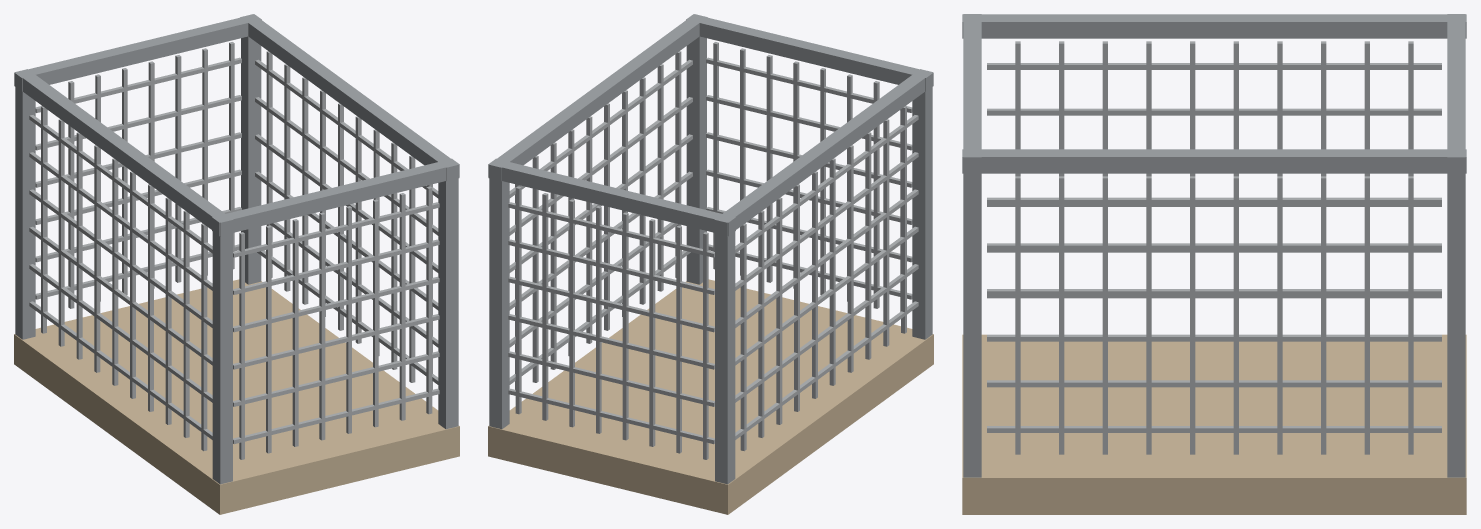
The model's file is unit_epal_gitterbox_1240x835x970_v14.glb.
The picture shows the model from 3 angles, left to right: view 1: azimuth 30°, elevation 25°; view 2: azimuth 150°, elevation 25°; view 3: azimuth 270°, elevation 25°; orthographic projection. The views are drawn at different scales.
Visible parts, largest first — view 1: GIBO_BASE, TOP_Z1, TOP_Z2, POST_-0.39249999999999996_0.595, POST_0.39249999999999996_0.595, TOP_X2, POST_-0.39249999999999996_-0.595, TOP_X1, POST_0.39249999999999996_-0.595, GRID_Z_V_0.595_-0.047, GRID_Z_V_0.595_-0.140, GRID_Z_V_0.595_0.233 (+54 smaller); view 2: GIBO_BASE, TOP_Z1, TOP_Z2, POST_-0.39249999999999996_-0.595, POST_0.39249999999999996_-0.595, TOP_X1, POST_-0.39249999999999996_0.595, TOP_X2, POST_0.39249999999999996_0.595, GRID_Z_V_-0.595_-0.047, GRID_Z_V_-0.595_0.233, GRID_Z_V_-0.595_0.326 (+54 smaller); view 3: GIBO_BASE, TOP_Z2, TOP_Z1, POST_0.39249999999999996_-0.595, POST_0.39249999999999996_0.595, GRID_X_H_0.39249999999999996_0.344, GRID_X_H_0.39249999999999996_0.716, GRID_X_H_-0.39249999999999996_0.716, GRID_X_H_0.39249999999999996_0.840, GRID_X_H_0.39249999999999996_0.468, GRID_X_H_-0.39249999999999996_0.840, TOP_X2 (+26 smaller).
Part boxes in pixels (<box>): GIBO_BASE: <box>14,279,459,514</box>; TOP_Z1: <box>15,69,233,236</box>; TOP_Z2: <box>240,14,459,181</box>; POST_-0.39249999999999996_0.595: <box>212,231,232,484</box>; POST_0.39249999999999996_0.595: <box>438,178,458,429</box>; TOP_X2: <box>212,158,459,236</box>; POST_-0.39249999999999996_-0.595: <box>15,87,35,339</box>; TOP_X1: <box>14,14,261,91</box>; POST_0.39249999999999996_-0.595: <box>241,36,261,284</box>; GRID_Z_V_0.595_-0.047: <box>319,212,325,440</box>; GRID_Z_V_0.595_-0.140: <box>292,219,298,446</box>; GRID_Z_V_0.595_0.233: <box>399,193,405,420</box>; GIBO_BASE: <box>488,279,933,514</box>; TOP_Z1: <box>714,69,932,236</box>; TOP_Z2: <box>488,14,707,181</box>; POST_-0.39249999999999996_-0.595: <box>715,231,735,484</box>; POST_0.39249999999999996_-0.595: <box>489,178,509,429</box>; TOP_X1: <box>488,158,735,236</box>; POST_-0.39249999999999996_0.595: <box>912,87,932,339</box>; TOP_X2: <box>686,14,933,91</box>; POST_0.39249999999999996_0.595: <box>686,36,706,284</box>; GRID_Z_V_-0.595_-0.047: <box>622,212,628,440</box>; GRID_Z_V_-0.595_0.233: <box>542,193,548,420</box>; GRID_Z_V_-0.595_0.326: <box>515,186,521,414</box>; GIBO_BASE: <box>962,334,1466,514</box>; TOP_Z2: <box>962,149,1466,173</box>; TOP_Z1: <box>962,14,1466,38</box>; POST_0.39249999999999996_-0.595: <box>1447,174,1465,477</box>; POST_0.39249999999999996_0.595: <box>963,174,981,477</box>; GRID_X_H_0.39249999999999996_0.344: <box>987,380,1441,387</box>; GRID_X_H_0.39249999999999996_0.716: <box>987,243,1441,250</box>; GRID_X_H_-0.39249999999999996_0.716: <box>987,108,1441,115</box>; GRID_X_H_0.39249999999999996_0.840: <box>987,197,1441,204</box>; GRID_X_H_0.39249999999999996_0.468: <box>987,334,1441,341</box>; GRID_X_H_-0.39249999999999996_0.840: <box>987,63,1441,69</box>; TOP_X2: <box>963,14,981,173</box>.
Bounding box in the file's own units: 0.835 × 0.9705 × 1.24.
